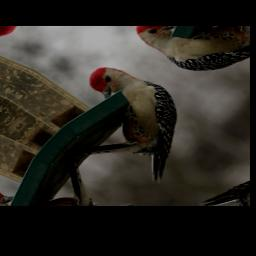Woodpecker: (43, 57, 224, 188)
